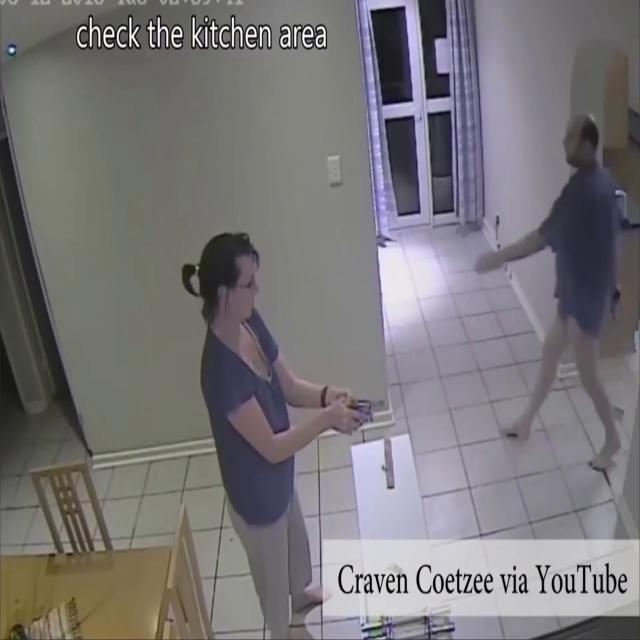Gun: (328, 381, 400, 442)
